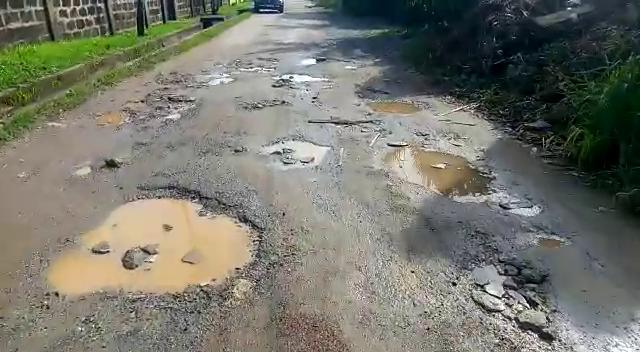pothole: (40, 183, 274, 306), (376, 143, 498, 199), (98, 93, 197, 129), (264, 136, 328, 168), (515, 224, 571, 250), (359, 96, 423, 115), (306, 118, 384, 132), (495, 201, 544, 217), (236, 97, 290, 110), (274, 72, 327, 83)
